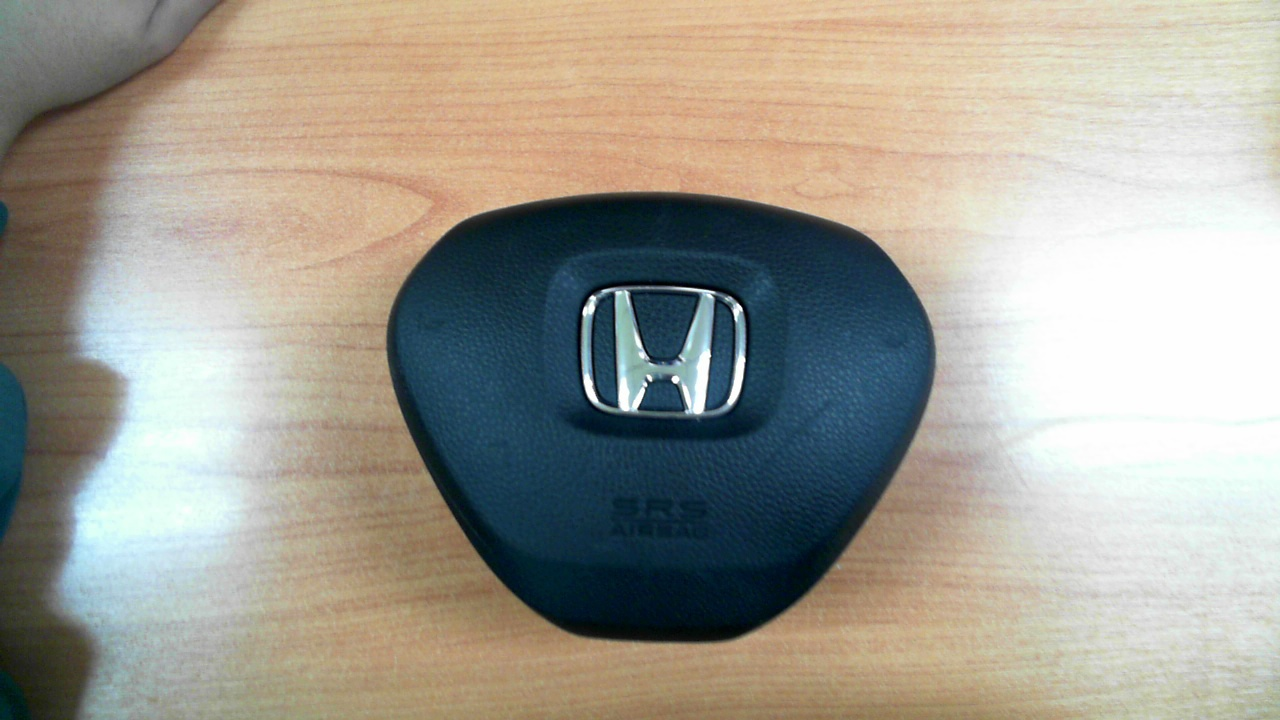Airbag: (386, 190, 937, 642)
Honda: (579, 285, 747, 415)
